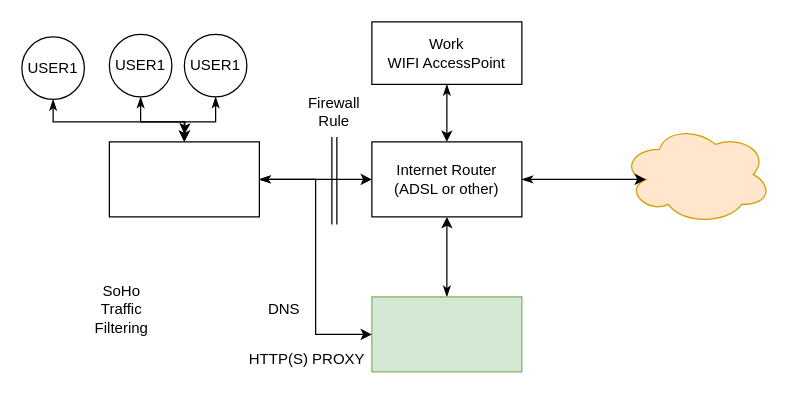
This 794x394 diagram has some shape labels left out. The shapes that lost their labels are listed below. From the top down, each one's centre as x and y in pixels, then its label:
(183,179): Home WIFI AccessPoint
(696,173): Internet
(446,334): Pi-Hole : 80, 53 Squid : 3128
